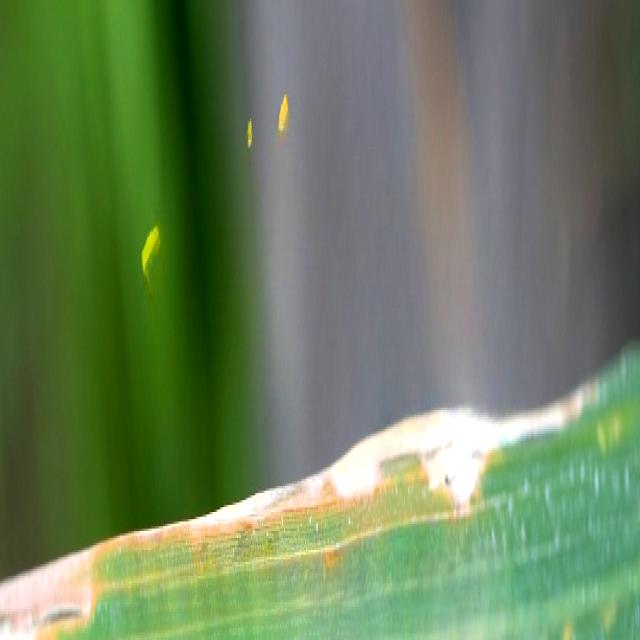BLB: (0, 378, 601, 640)
